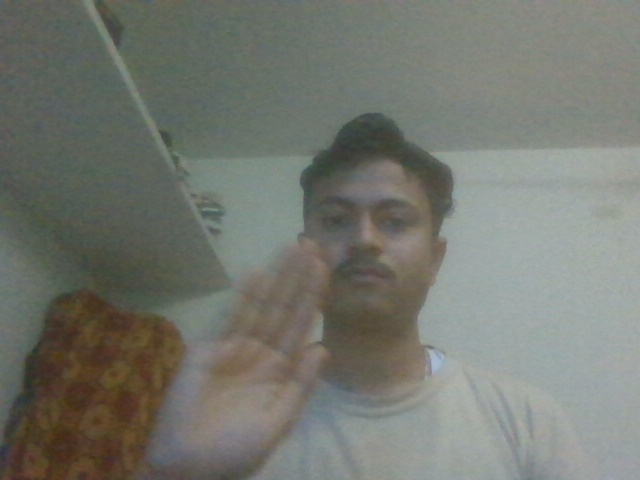Hello: (141, 229, 344, 480)
